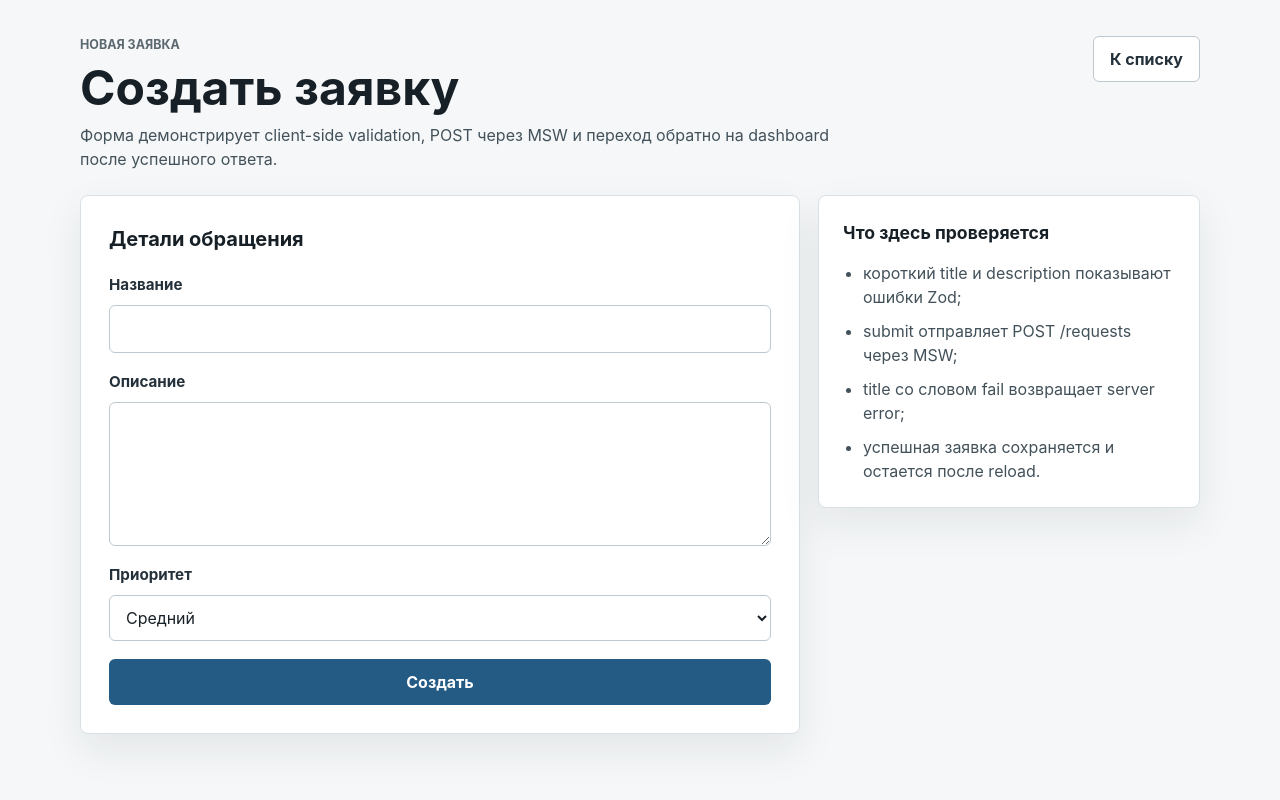
Scenario: CreateRequestPage › validates required request fields
Click the button "Создать". click: (440, 682)
box: [109, 658, 771, 704]
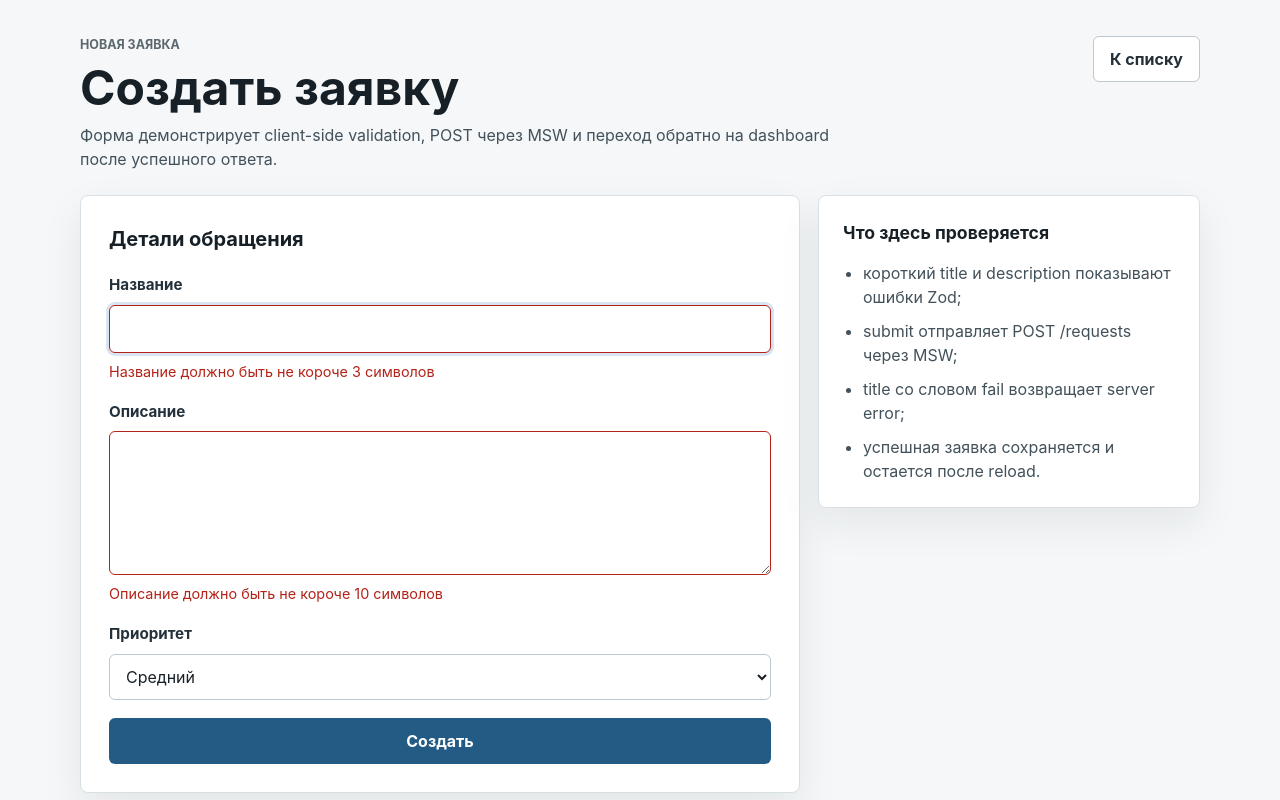
Check: the text "Название должно быть не короче 3 символов" is shown, box [109, 363, 435, 380]
Check: the text "Описание должно быть не короче 10 символов" is shown, box [109, 585, 443, 602]
